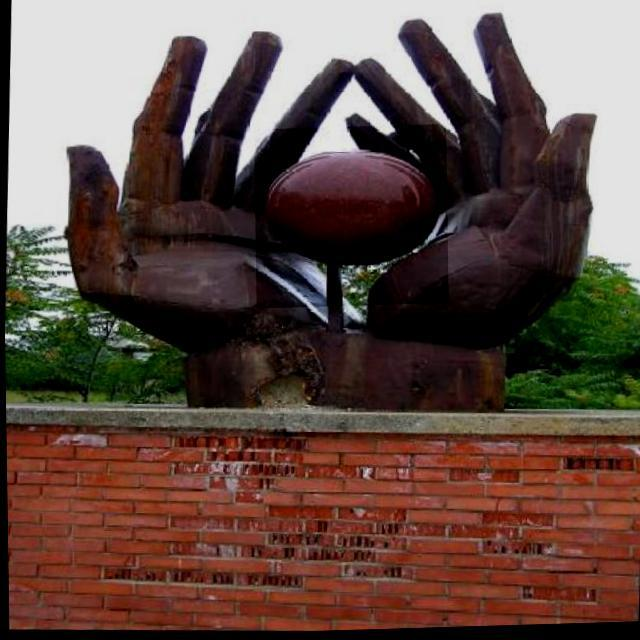-: (253, 127, 448, 310)
